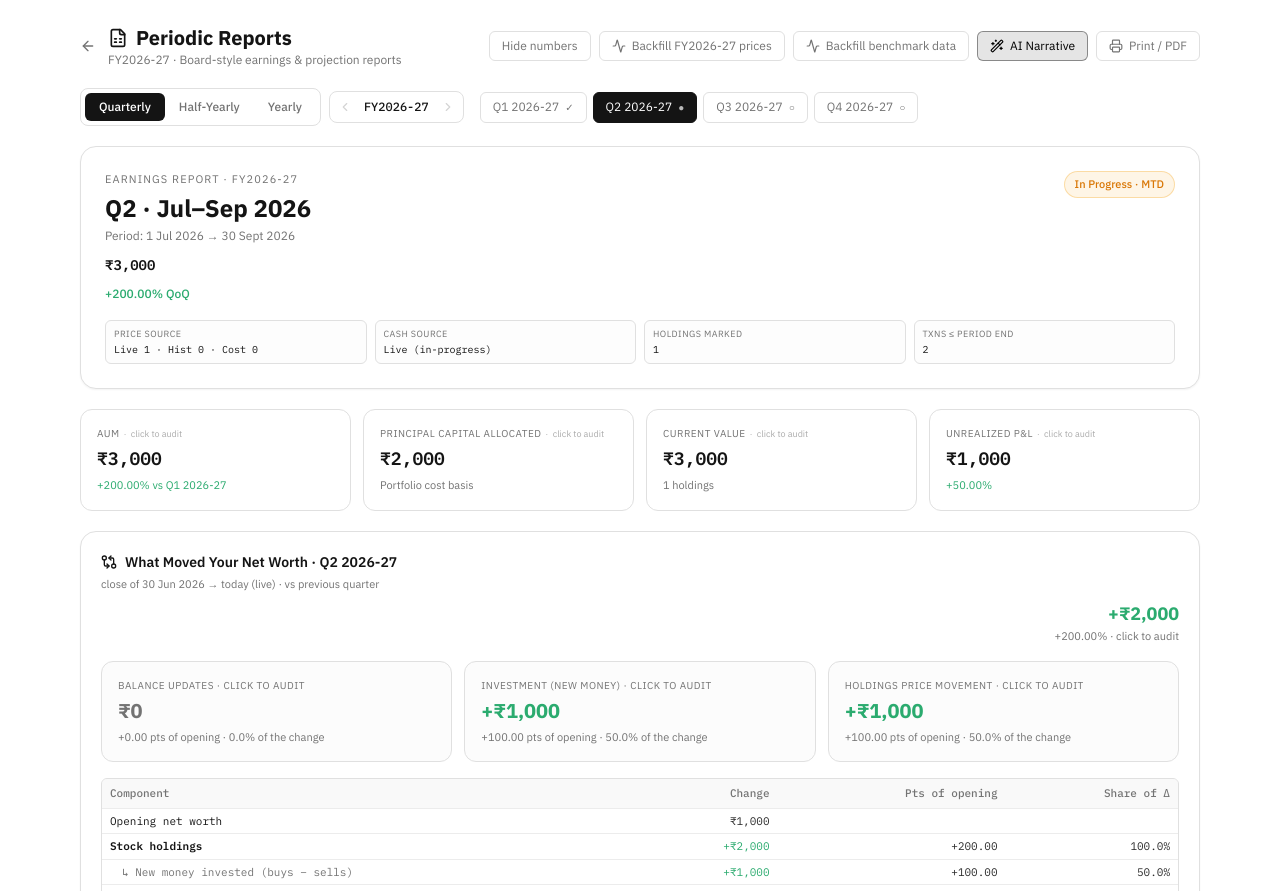
Reports page › does not count a trade or closing price from the next period's first day in a completed period (period-end boundary)
Click the button "Q1 2026-27✓" at (533, 107), box [480,92,587,122]
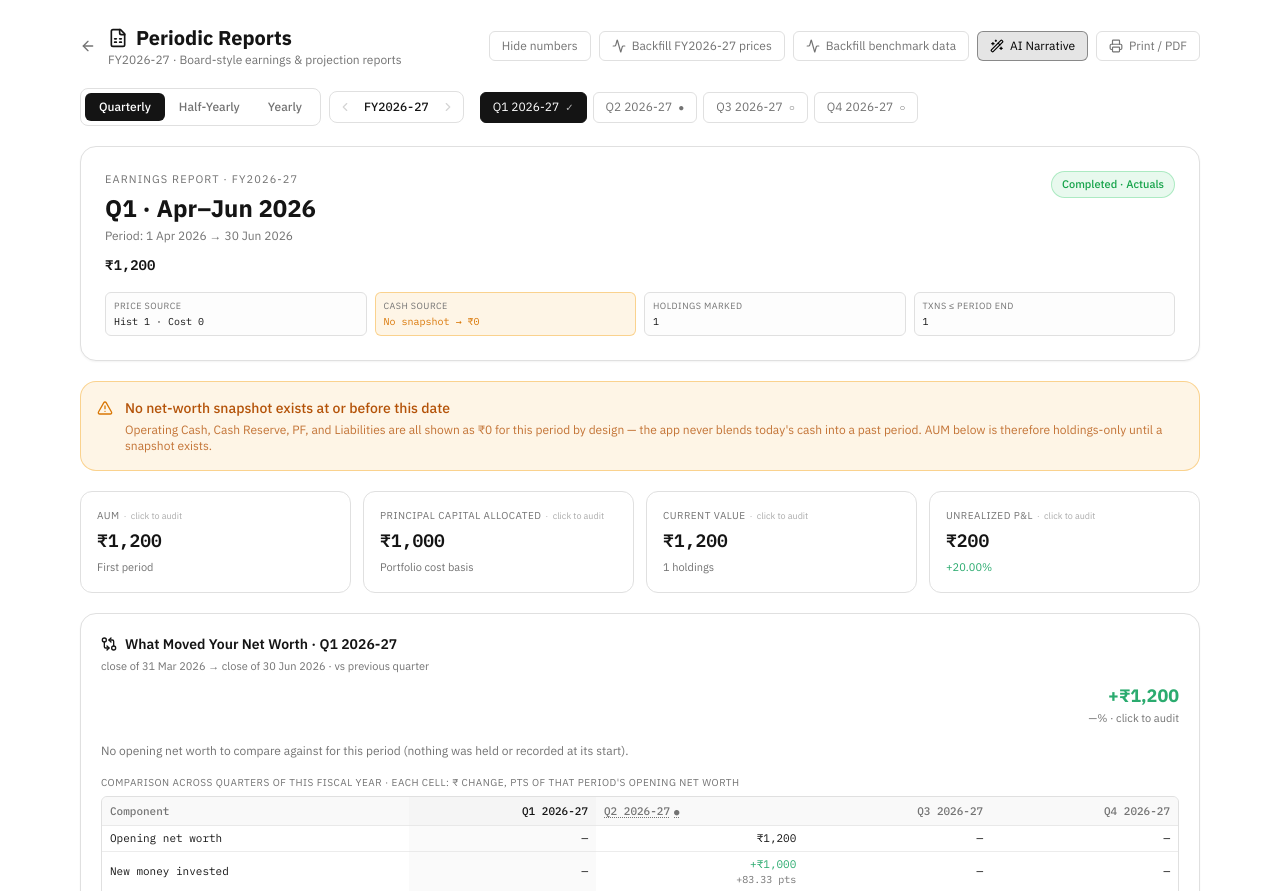
Now the text "₹1,200" below "Period:" is shown, box [105,256,155,274]
